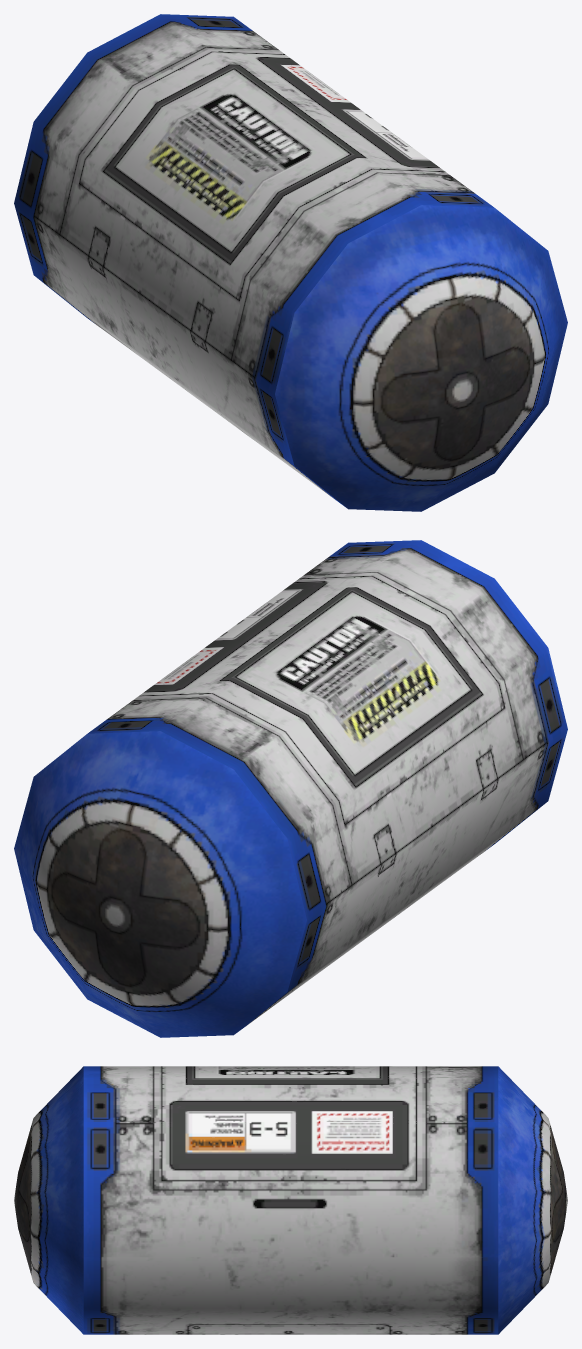
File: base_pod.dae
The picture shows the model from 3 angles, top to bottom: view 1: azimuth 30°, elevation 25°; view 2: azimuth 150°, elevation 25°; view 3: azimuth 270°, elevation 25°; orthographic projection. The views are drawn at different scales.
Visible parts, largest first — view 1: base_pod; view 2: base_pod; view 3: base_pod.
Part boxes in pixels (x1=…): base_pod: x1=14, y1=14, x2=567, y2=511; base_pod: x1=14, y1=540, x2=567, y2=1037; base_pod: x1=14, y1=1066, x2=567, y2=1334.
Size of the model in its own units: 5.14 by 10.58 by 5.14.
1 material, 1 textured.
